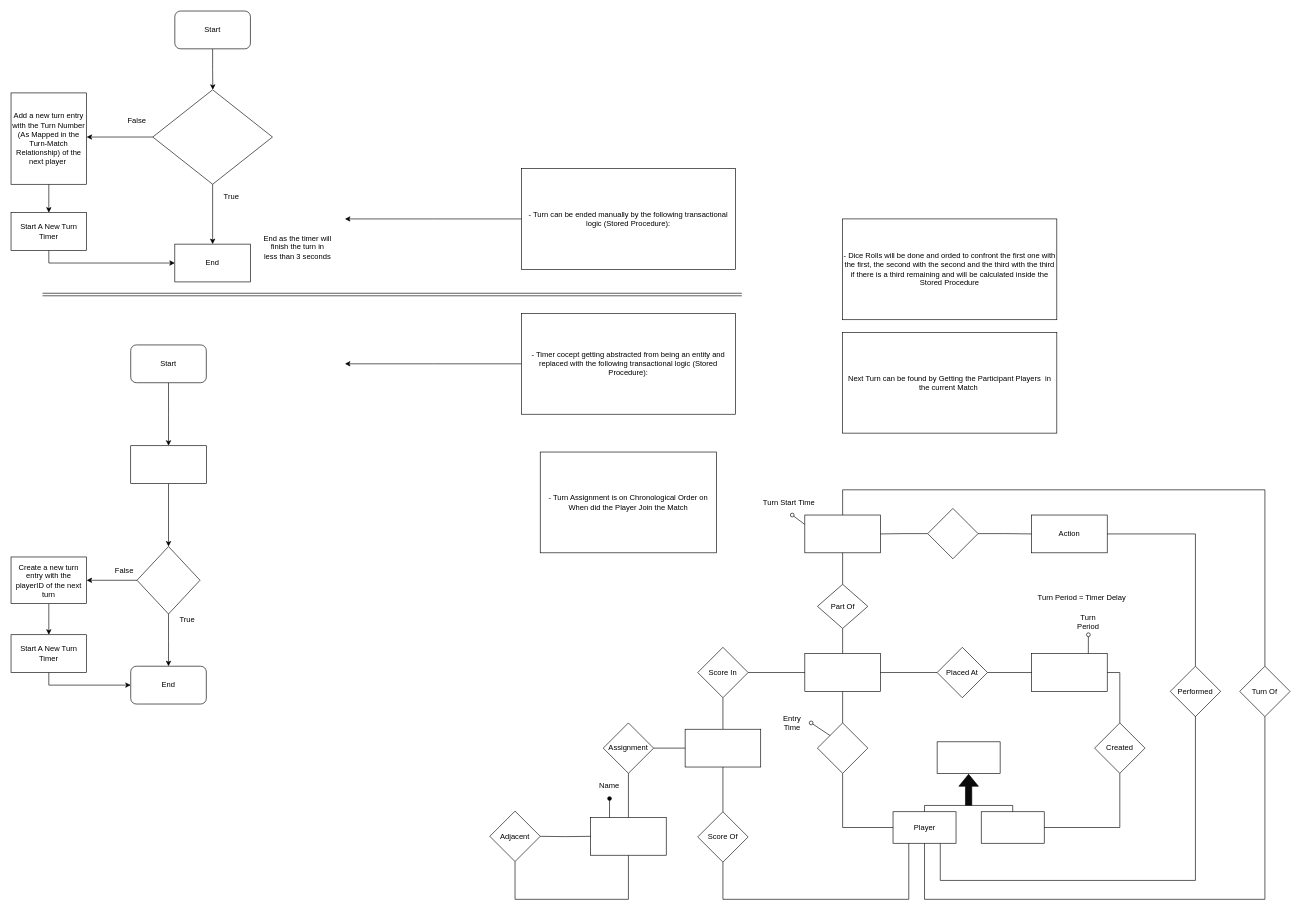
Some shapes in this 1302 by 911 pixel diagram are drawn without their labels. Each missing label, with the box of its shape:
Check if the turn was passed: (136, 546, 200, 614)
Is difference between start-time and timer delay (For the timer) is < 3: (152, 89, 272, 184)
Match: (804, 653, 880, 691)
Moderator: (981, 811, 1044, 843)
Nation: (590, 817, 666, 855)
Occured: (927, 508, 978, 559)
Participate: (817, 722, 868, 773)
Room: (1031, 653, 1107, 691)
Scoreboard: (684, 729, 761, 767)
Turn: (804, 514, 880, 553)
User: (936, 741, 1000, 773)
Wait For Delay (Turn Period): (130, 445, 206, 484)
